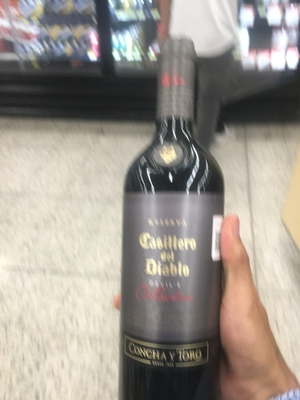casillero del diablo devils collection rojo: (115, 44, 237, 400)
